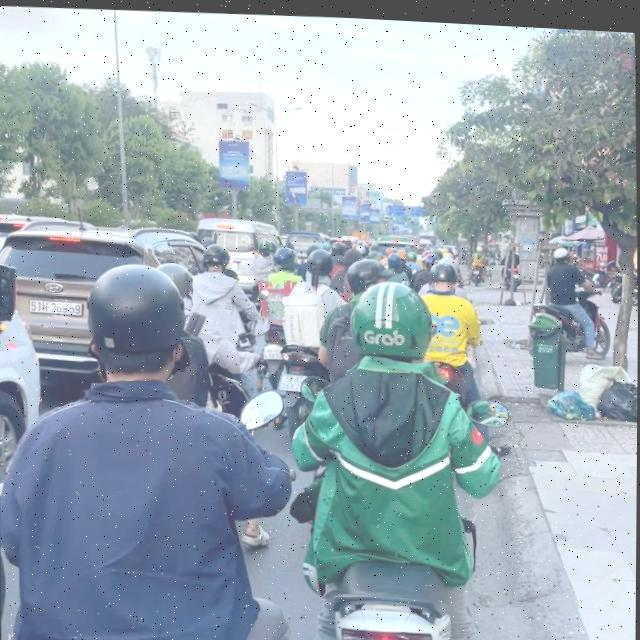car: (0, 213, 236, 389)
motorcycle: (305, 566, 489, 640)
plate: (21, 290, 93, 325), (274, 365, 313, 396)
